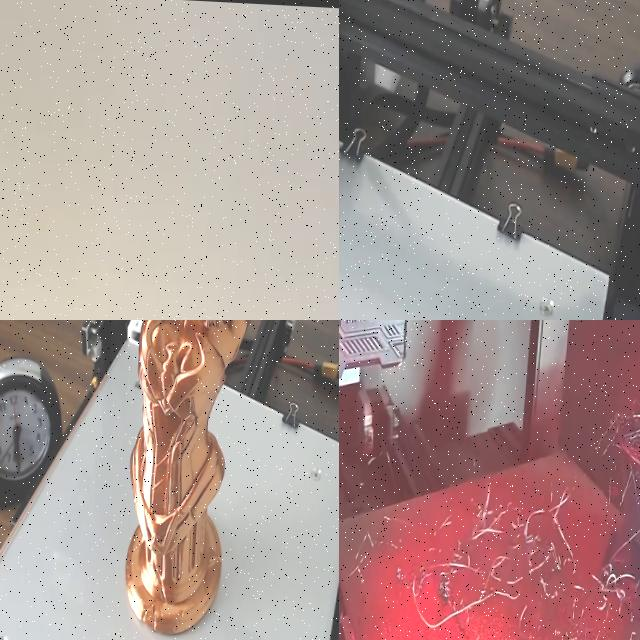spaghetti: (339, 465, 586, 640), (573, 578, 640, 640)
